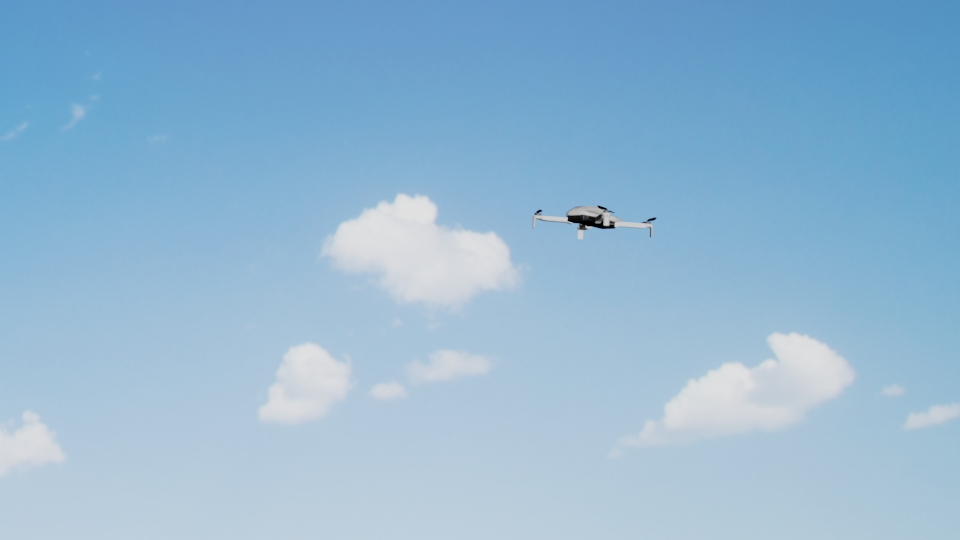drone: (528, 199, 656, 241)
